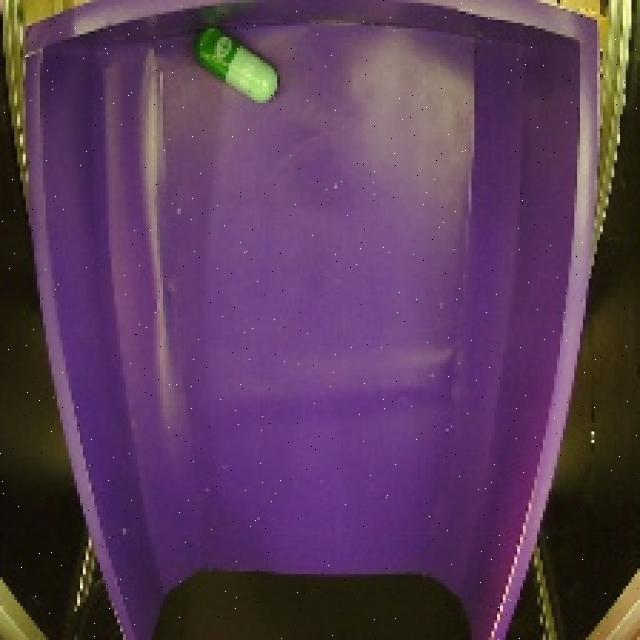small: (188, 21, 286, 110)
